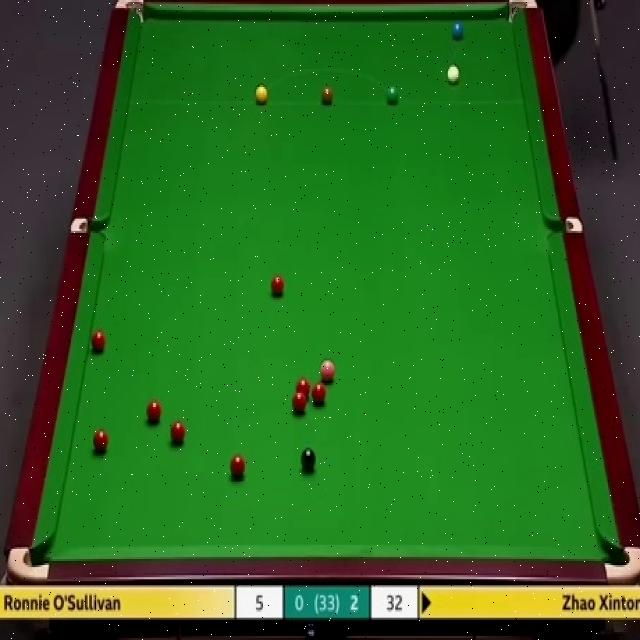black-ball: (300, 447, 317, 474)
blue-ball: (450, 16, 466, 41)
brown-ball: (321, 86, 334, 107)
green-ball: (386, 85, 400, 107)
pink-ball: (317, 359, 336, 384)
red-ball: (92, 428, 110, 456), (229, 453, 246, 480), (168, 420, 186, 445), (146, 401, 162, 427), (270, 273, 286, 298), (310, 382, 328, 404), (90, 329, 105, 354), (291, 392, 307, 415), (294, 378, 312, 398)
white-ball: (446, 63, 462, 87)
yellow-ball: (255, 84, 268, 106)
